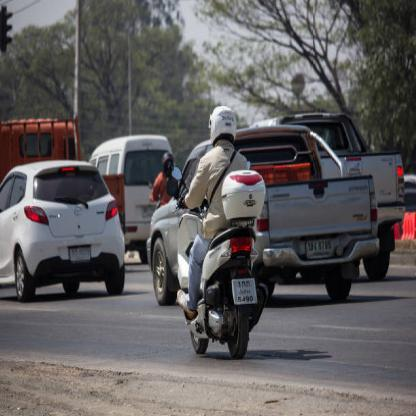Motorcycle: (174, 200, 276, 354)
